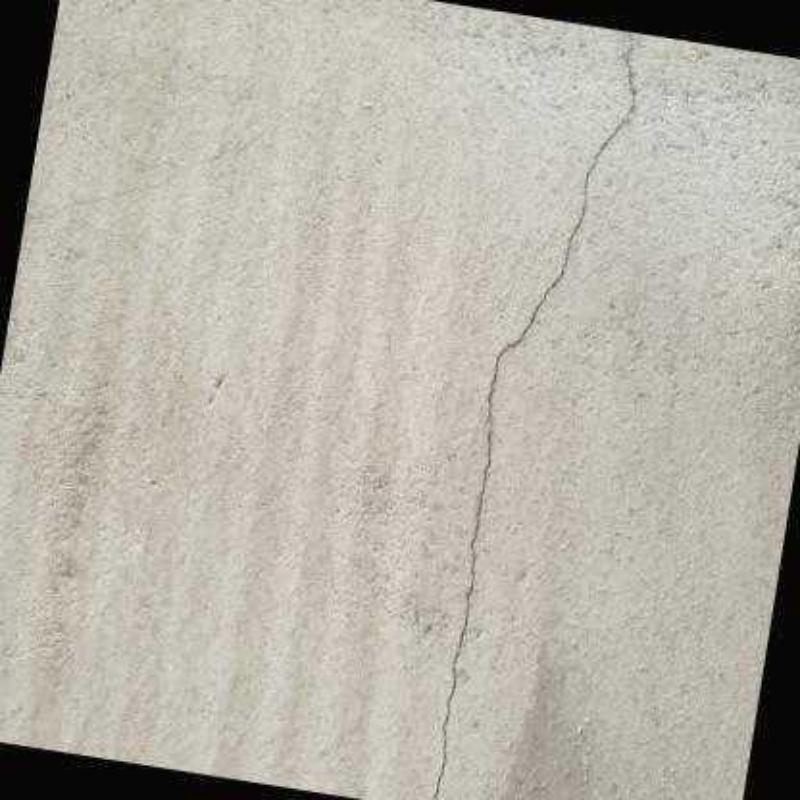pothole: (434, 45, 635, 799)
